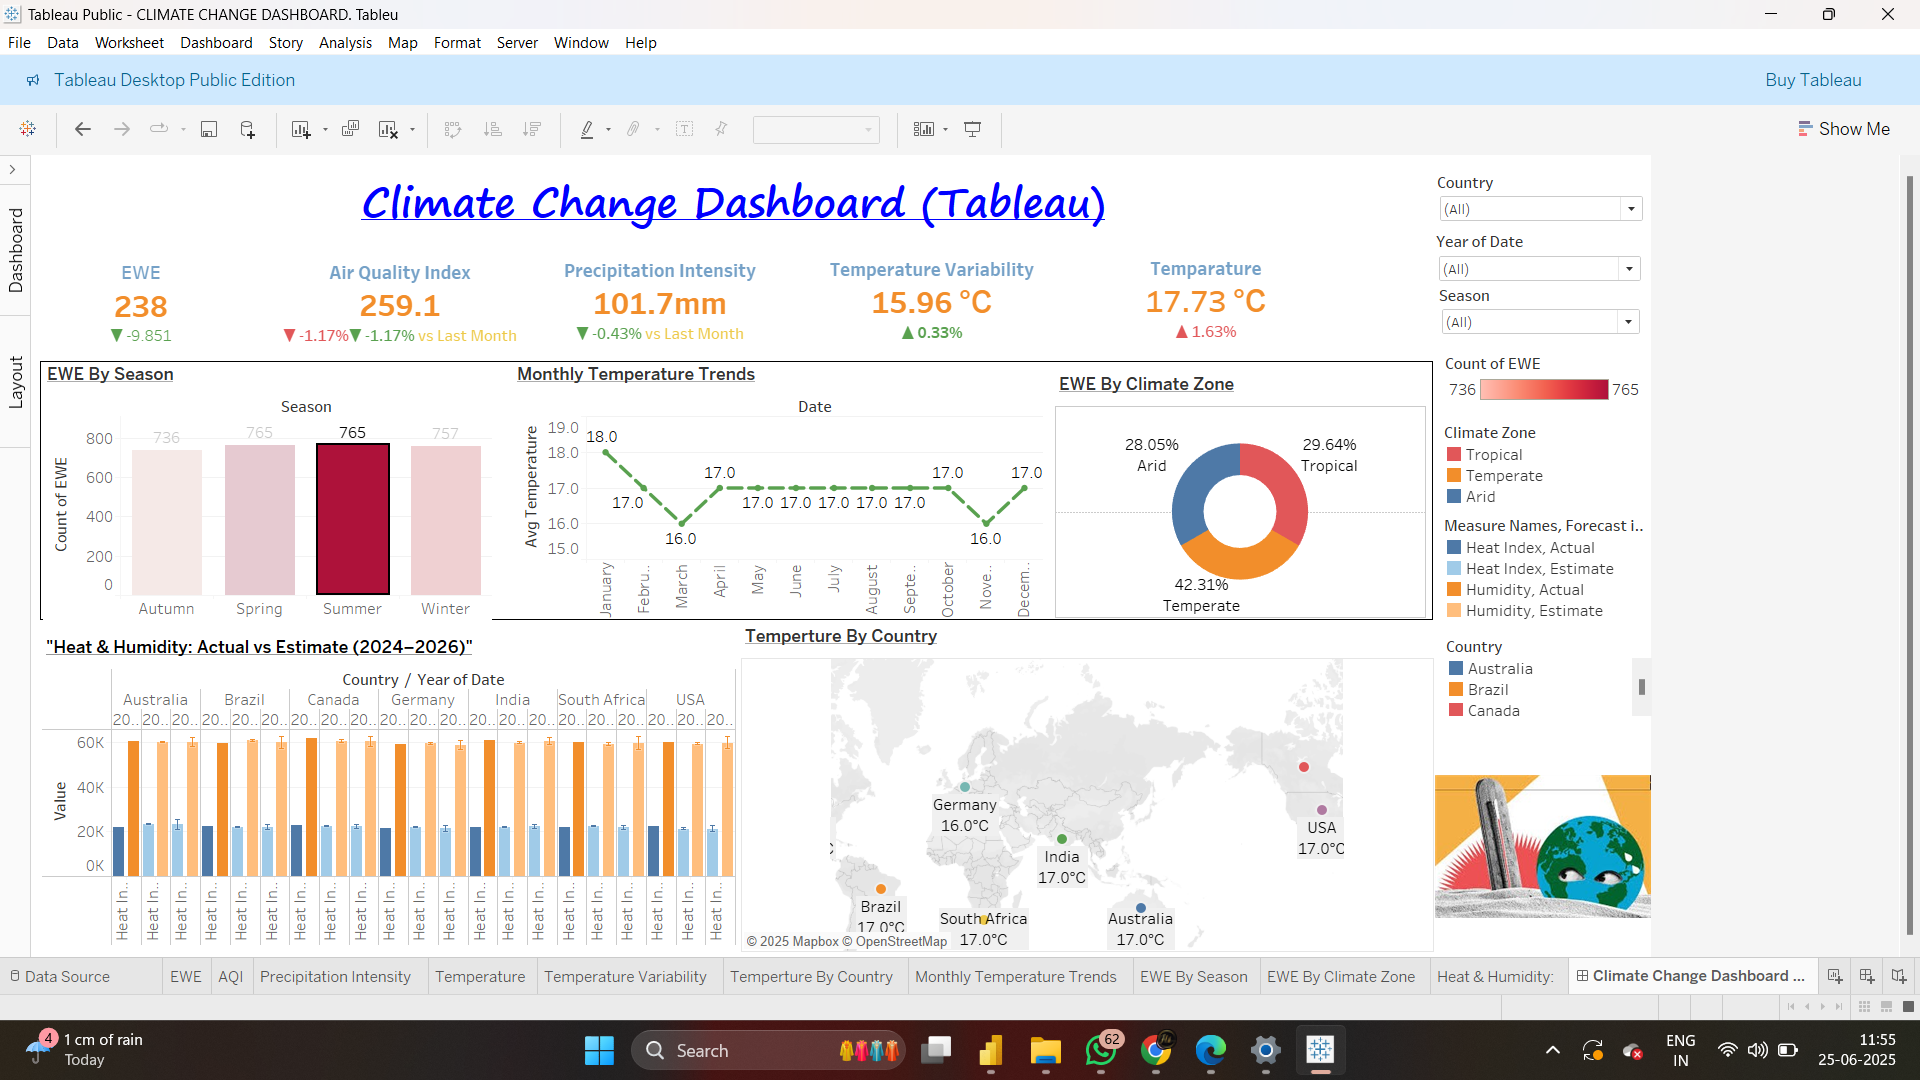

The page's visual inventory and layout, read from the dashboard file:
{"tool":"tableau","page":{"name":"Dashboard 1","canvas":[1000,1000],"units":"permille","ordinal":0},"visuals":[{"type":"text","box":[4.3,18.7,858.6,79.8]},{"type":"filter","title":"Temperture By Country","param":"[federated.0ea08na0bte1321b5bsay1emjt9o].[none:Country:nk]","box":[867.9,21.2,129,64.8]},{"type":"filter","title":"Heat & Humidity:","param":"[federated.0ea08na0bte1321b5bsay1emjt9o].[tyr:Date:ok]","box":[867.3,94.8,128.4,69.8]},{"type":"worksheet","title":"Temperature","mark":"Automatic","box":[660.5,101,129,138.4]},{"type":"worksheet","title":"Temperature Variability","mark":"Automatic","box":[461.7,102.2,188.3,138.4]},{"type":"worksheet","title":"Precipitation Intensity","mark":"Automatic","box":[323.5,103.5,129,138.4]},{"type":"worksheet","title":"EWE","mark":"Automatic","box":[3.1,106,129,138.4]},{"type":"worksheet","title":"AQI","mark":"Automatic","box":[138.9,106,177.2,138.4]},{"type":"filter","title":"EWE By Climate Zone","param":"[federated.0ea08na0bte1321b5bsay1emjt9o].[none:Season:nk]","box":[869.1,162.1,125.9,64.8]},{"type":"legend","title":"EWE By Season","param":"[federated.0ea08na0bte1321b5bsay1emjt9o].[sum:Calculation_1268326268205731840:qk","box":[872.8,246.9,122.8,69.8]},{"type":"worksheet","title":"Monthly Temperature Trends","mark":"Line","rows":["Calculation_1268326268697784340"],"cols":["Date"],"box":[295.1,250.6,332.1,332.9]},{"type":"dashboard-object","param":"[com.tableau.addfilters].[0.0.0].[https://extensions.tableauusercontent.com/sand","box":[3.1,251.9,864.8,332.9]},{"type":"worksheet","title":"EWE By Season","mark":"Automatic","rows":["Calculation_1268326268205731840"],"cols":["Season"],"box":[7.4,255.6,277.2,324.2]},{"type":"worksheet","title":"EWE By Climate Zone","mark":"Pie","rows":["Calculation_1268326268725841953","Calculation_1268326268725841953"],"box":[629.6,263.1,234,319.2]},{"type":"legend","title":"EWE By Climate Zone","param":"[federated.0ea08na0bte1321b5bsay1emjt9o].[none:Climate Zone:nk]","box":[872.2,332.9,121,106]},{"type":"legend","title":"Heat & Humidity:","param":"[federated.0ea08na0bte1321b5bsay1emjt9o].[:Measure Names]\n[federated.0ea08na0bte","box":[872.2,448.9,127.2,132.2]},{"type":"worksheet","title":"Temperture By Country","mark":"Automatic","box":[438.3,582.3,427.8,411.5]},{"type":"worksheet","title":"Heat & Humidity:","mark":"Bar","cols":["Country","Date"],"box":[4.3,591,433.3,401.5]},{"type":"legend","title":"Temperture By Country","param":"[federated.0ea08na0bte1321b5bsay1emjt9o].[none:Country:nk]","box":[873.5,599.8,128.4,99.8]},{"type":"image","param":"C:/Users/hites/OneDrive/Documents/download1254.jpeg","box":[866.7,728.2,133.3,268.1]}]}

Visuals, with their boxes on the dashboard's canvas, which has no fixed pixel size, in thousandths of its width and height (x1, y1, x2, y2). These are canvas units, not pixel positions in the 1920x1080 screenshot, which may show the page scaled, cropped or inside an application window:
text: (x1=4, y1=19, x2=863, y2=98)
"Temperture By Country" filter: (x1=868, y1=21, x2=997, y2=86)
"Heat & Humidity:" filter: (x1=867, y1=95, x2=996, y2=165)
"Temperature" worksheet: (x1=660, y1=101, x2=790, y2=239)
"Temperature Variability" worksheet: (x1=462, y1=102, x2=650, y2=241)
"Precipitation Intensity" worksheet: (x1=324, y1=104, x2=452, y2=242)
"EWE" worksheet: (x1=3, y1=106, x2=132, y2=244)
"AQI" worksheet: (x1=139, y1=106, x2=316, y2=244)
"EWE By Climate Zone" filter: (x1=869, y1=162, x2=995, y2=227)
"EWE By Season" legend: (x1=873, y1=247, x2=996, y2=317)
"Monthly Temperature Trends" worksheet (Line marks): (x1=295, y1=251, x2=627, y2=584)
dashboard-object: (x1=3, y1=252, x2=868, y2=585)
"EWE By Season" worksheet: (x1=7, y1=256, x2=285, y2=580)
"EWE By Climate Zone" worksheet (Pie marks): (x1=630, y1=263, x2=864, y2=582)
"EWE By Climate Zone" legend: (x1=872, y1=333, x2=993, y2=439)
"Heat & Humidity:" legend: (x1=872, y1=449, x2=999, y2=581)
"Temperture By Country" worksheet: (x1=438, y1=582, x2=866, y2=994)
"Heat & Humidity:" worksheet (Bar marks): (x1=4, y1=591, x2=438, y2=992)
"Temperture By Country" legend: (x1=874, y1=600, x2=1002, y2=700)
image: (x1=867, y1=728, x2=1000, y2=996)
